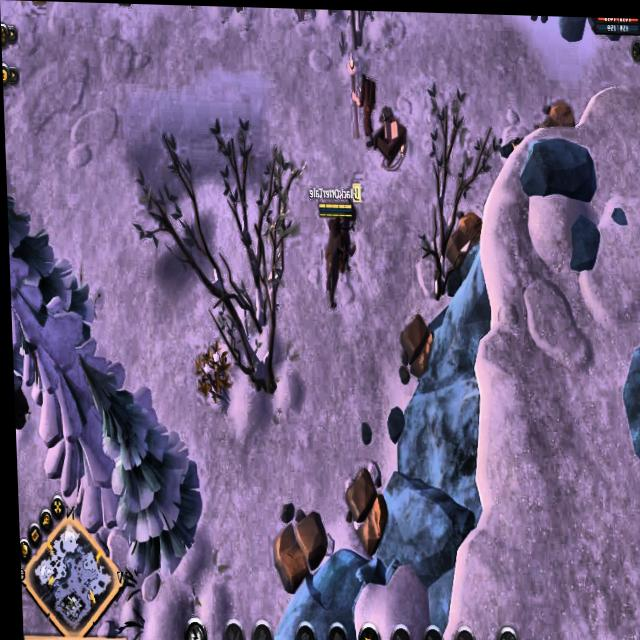limestone: (267, 502, 327, 598), (340, 463, 387, 557), (391, 305, 437, 381), (439, 205, 484, 272), (538, 93, 578, 127)
